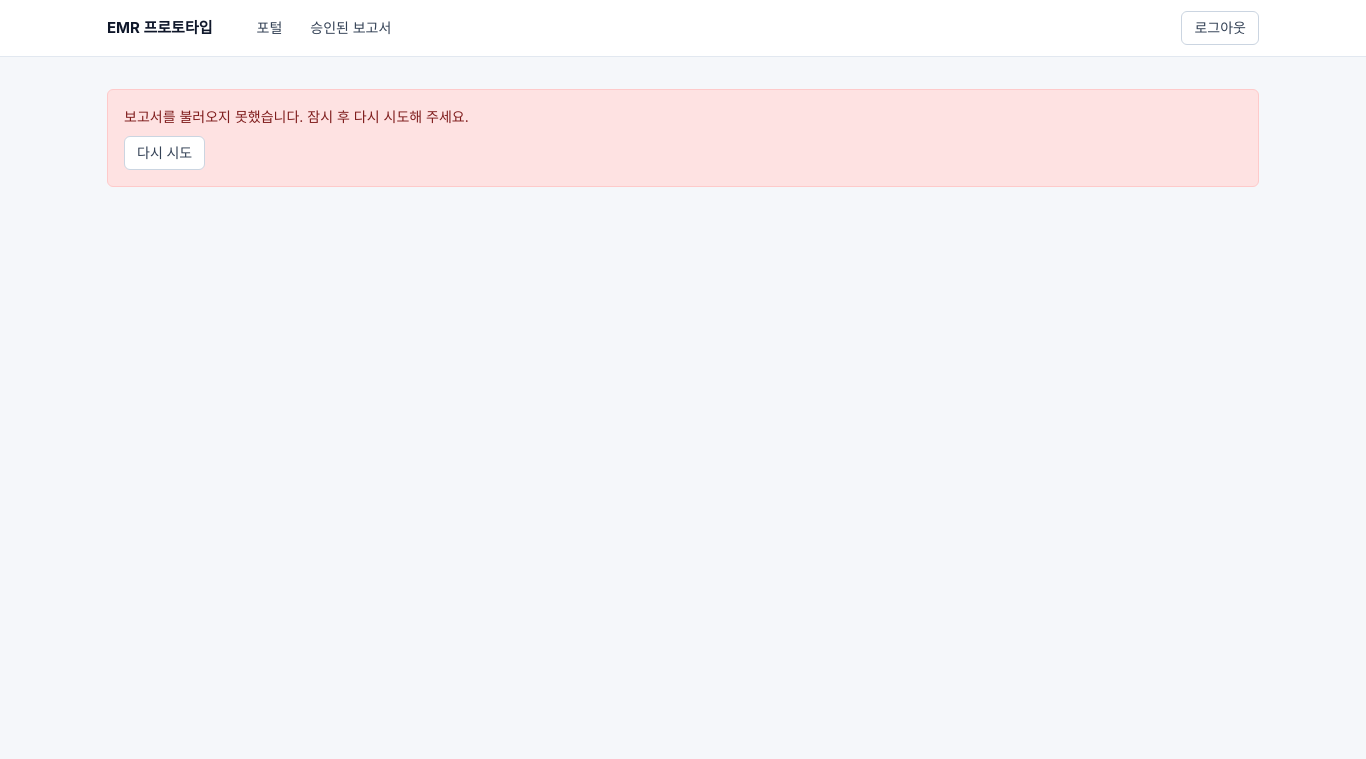
PatientReportDetailPage › shows a generic error with a working retry button on a server error
Click the button "다시 시도" at (165, 153), box top-left (124, 136), bottom-right (205, 170)
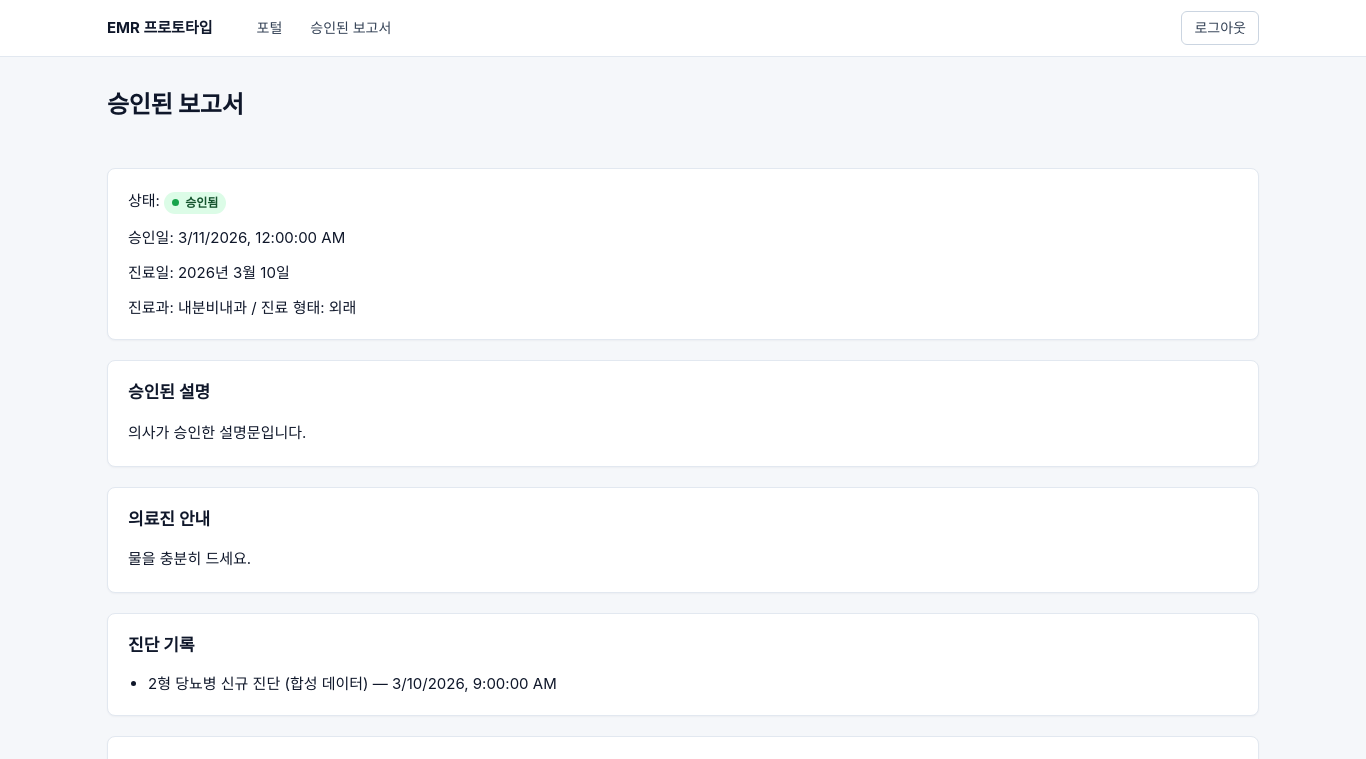
Now the heading "승인된 보고서" is shown, box top-left (107, 89), bottom-right (244, 120)
